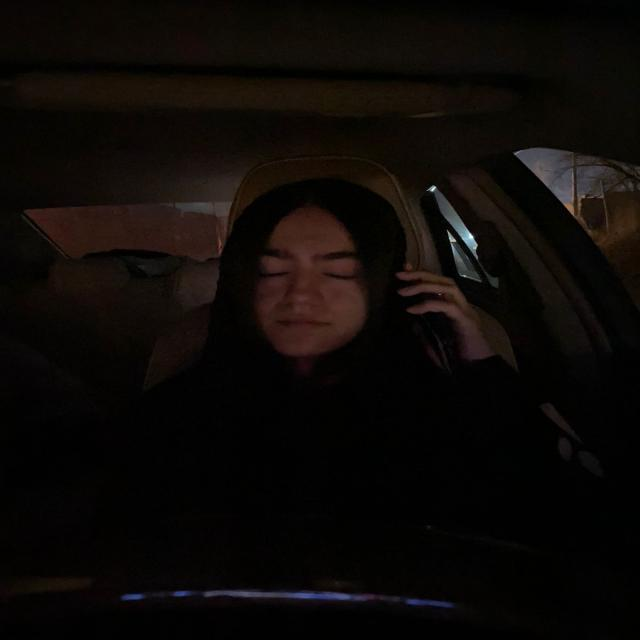mobile: (416, 316, 468, 396)
person: (220, 175, 409, 368)
